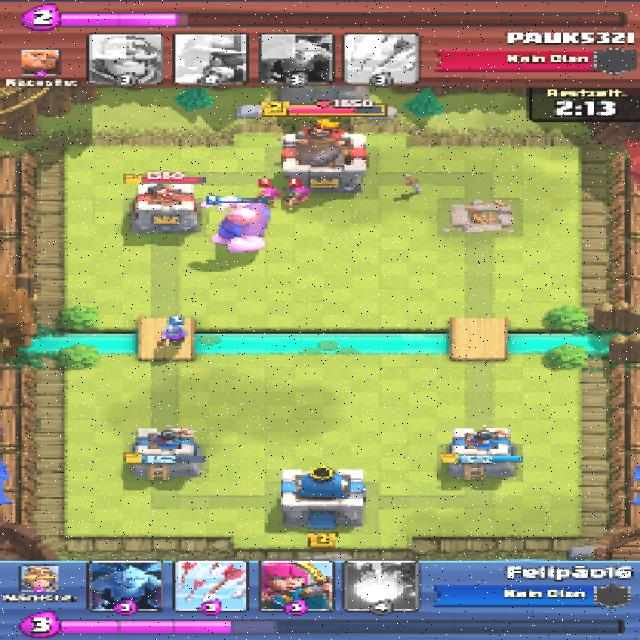Enemy-Archer: (284, 184, 309, 209), (256, 185, 282, 207)
Player-Giant: (196, 197, 271, 252)
Player-Musketeer: (149, 317, 186, 348)
